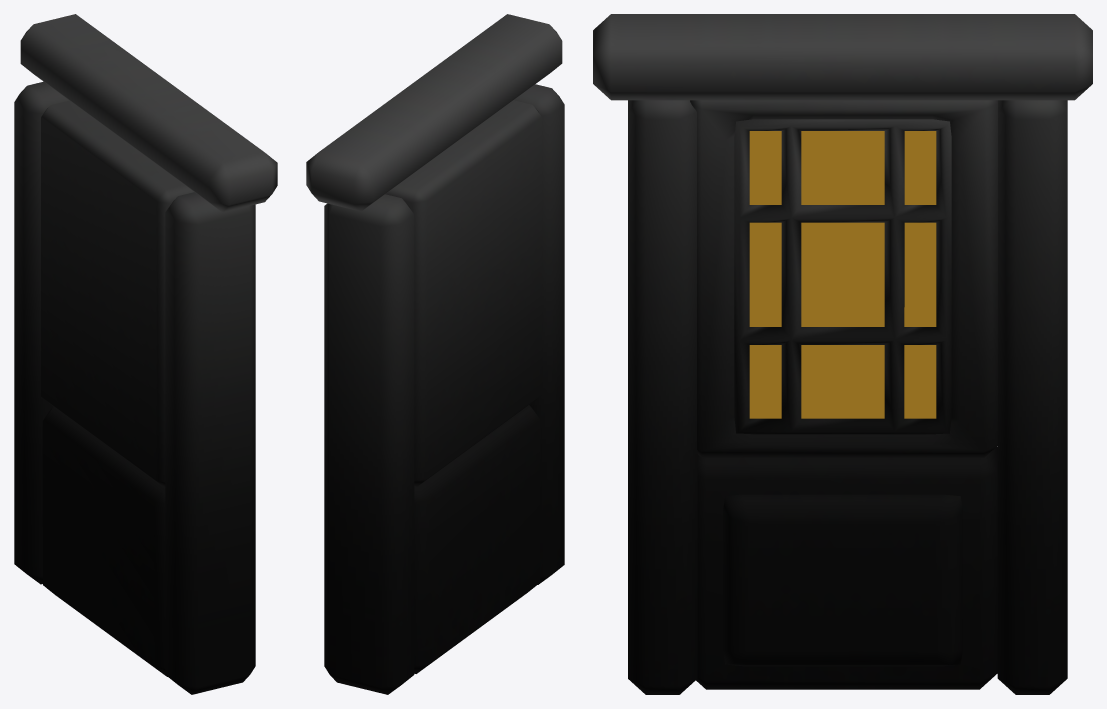
The model's file is SM_Brick_Door_07.fbx.
3 views of the same model, side by side, from view 1: azimuth 30°, elevation 25°; view 2: azimuth 150°, elevation 25°; view 3: azimuth 270°, elevation 25° (orthographic). The views are drawn at different scales.
Parts seen in each view (by area): view 1: SM_Brick_Door_07; view 2: SM_Brick_Door_07; view 3: SM_Brick_Door_07.
Boxes of the visible parts, <box> form: SM_Brick_Door_07: <box>14,14,277,694</box>; SM_Brick_Door_07: <box>306,14,564,694</box>; SM_Brick_Door_07: <box>593,14,1092,694</box>.
Size of the model in its own units: 0.0958 by 0.584 by 0.4008.
